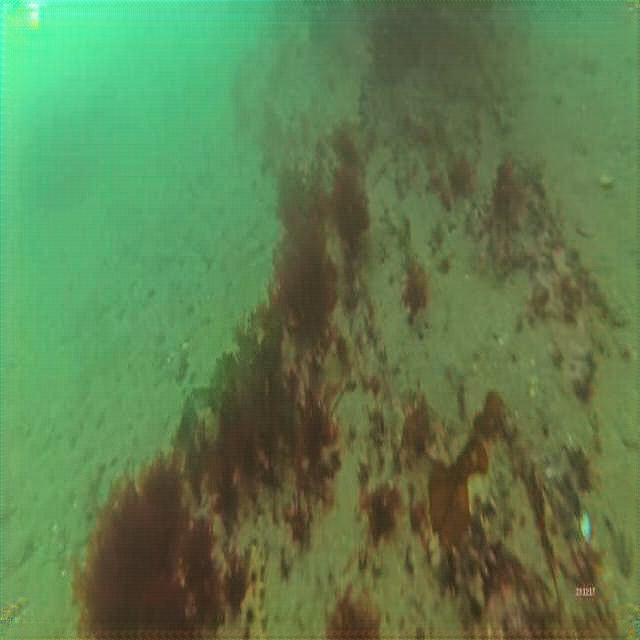holothurian: (452, 468, 509, 619), (239, 532, 273, 640)
